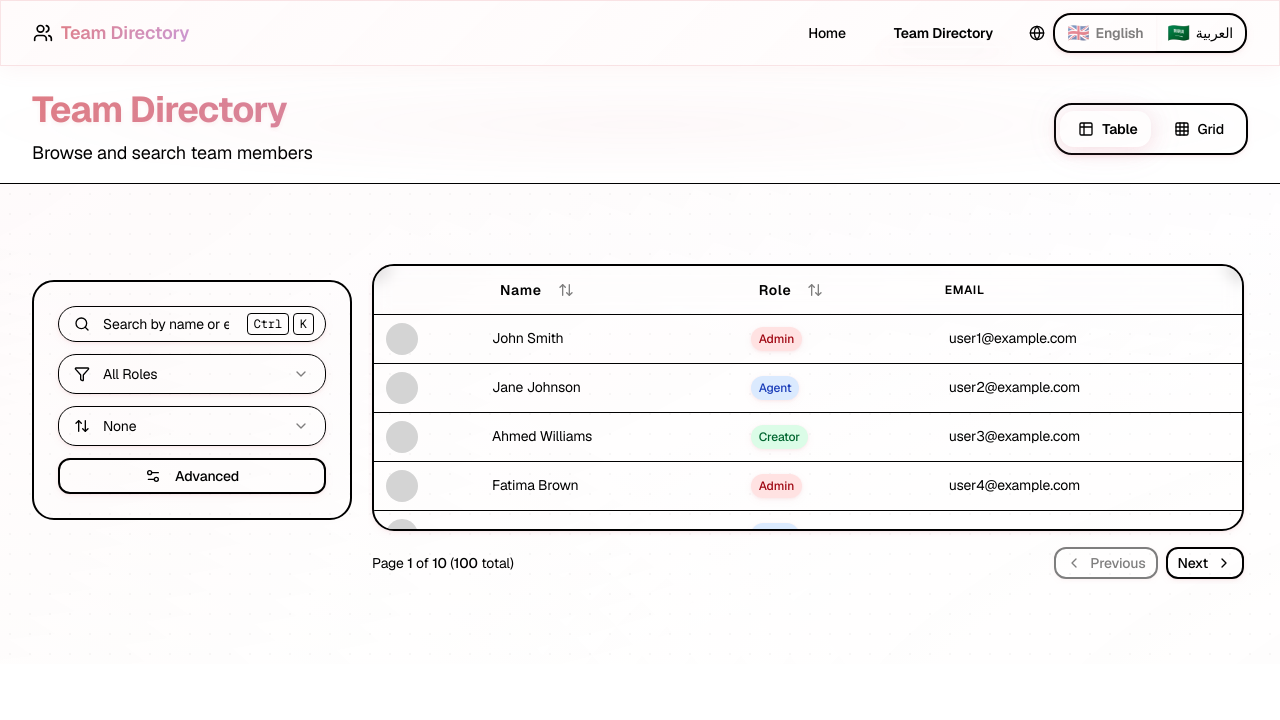
Scenario: Team Directory - Full User Journey › should filter by role
Expected: the field with placeholder "Search by name or email..." is shown, [58,306,326,342]
Click the dropdown labelled "All Roles": coordinates (130, 374) [58,354,326,394]
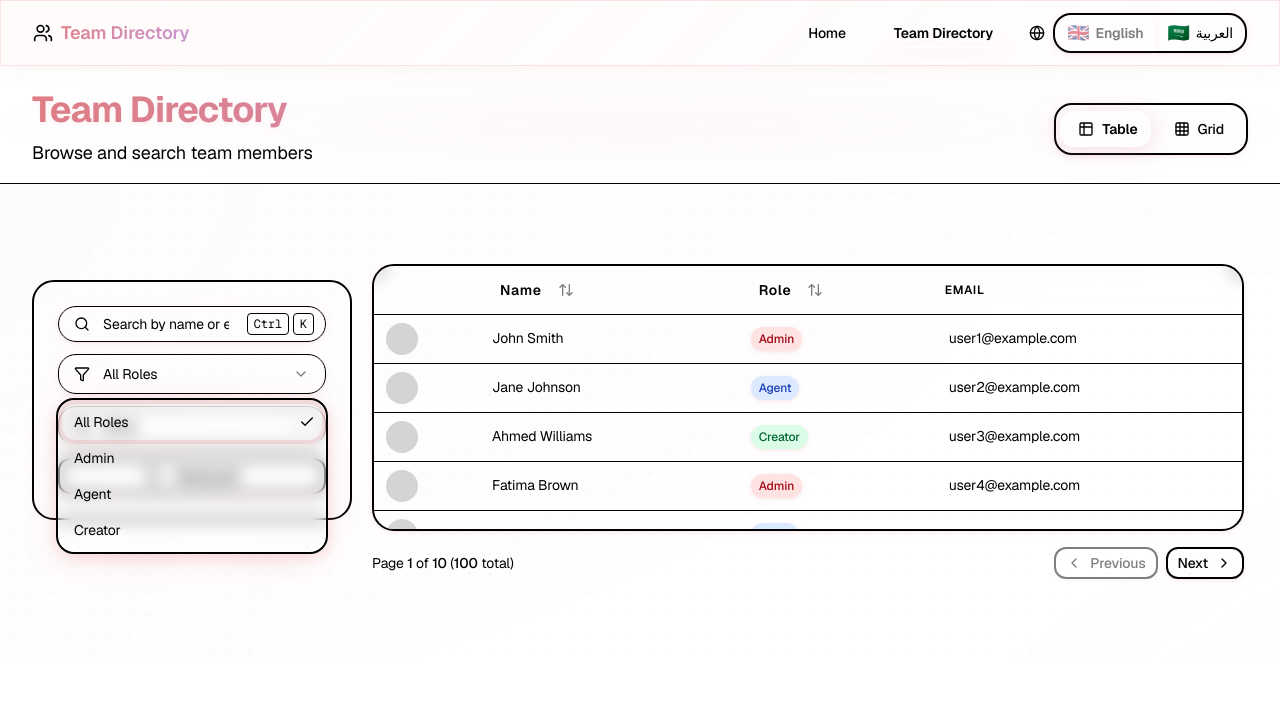
Expected: the list is shown, [56,398,328,554]
Click the 2nd text "Admin": coordinates (95, 458) [74,448,115,468]
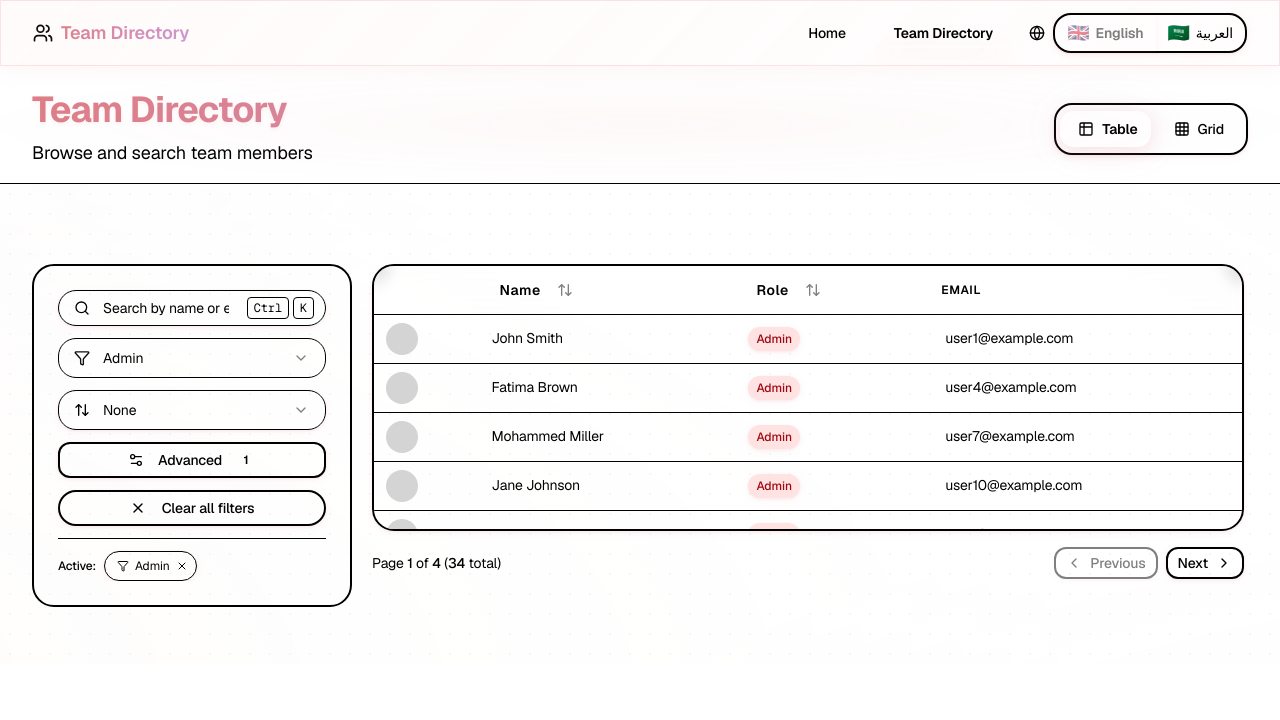
Expected: the list is gone
Expected: the text "Admin" in the row of "Fatima Brown" is shown, [756,380,791,396]
Expected: the text "Admin" next to "Mohammed Miller" is shown, [756,429,791,445]
